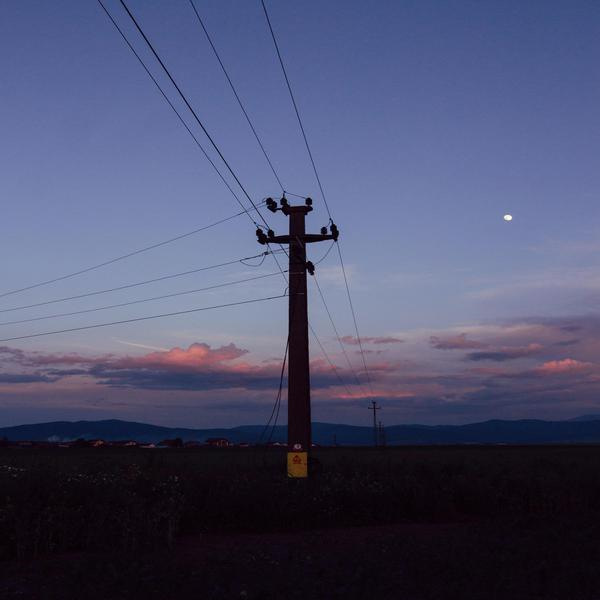utility_pole: (242, 183, 349, 292)
